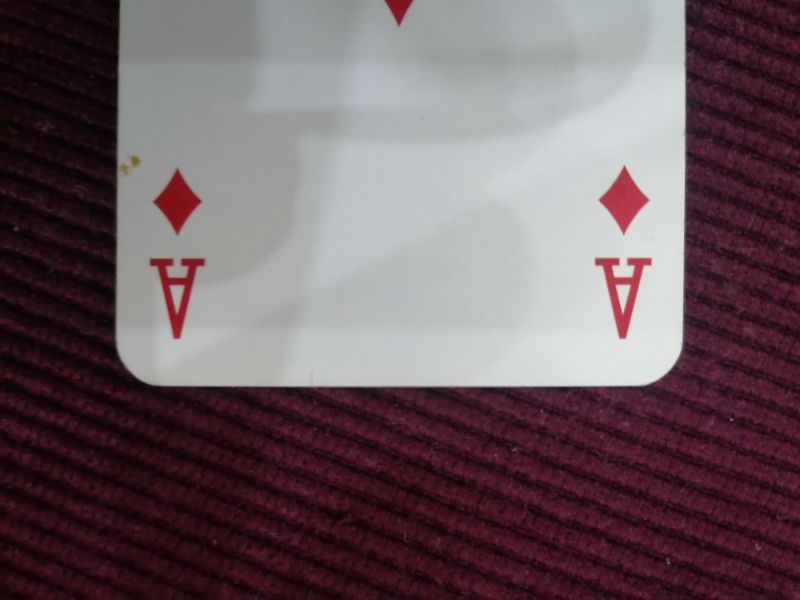Ad: (591, 157, 654, 344), (148, 165, 209, 343)
